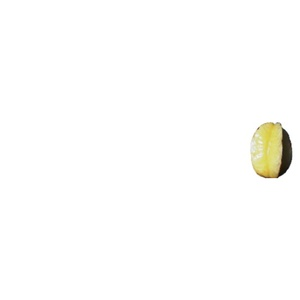carambola: (251, 123, 292, 179)
